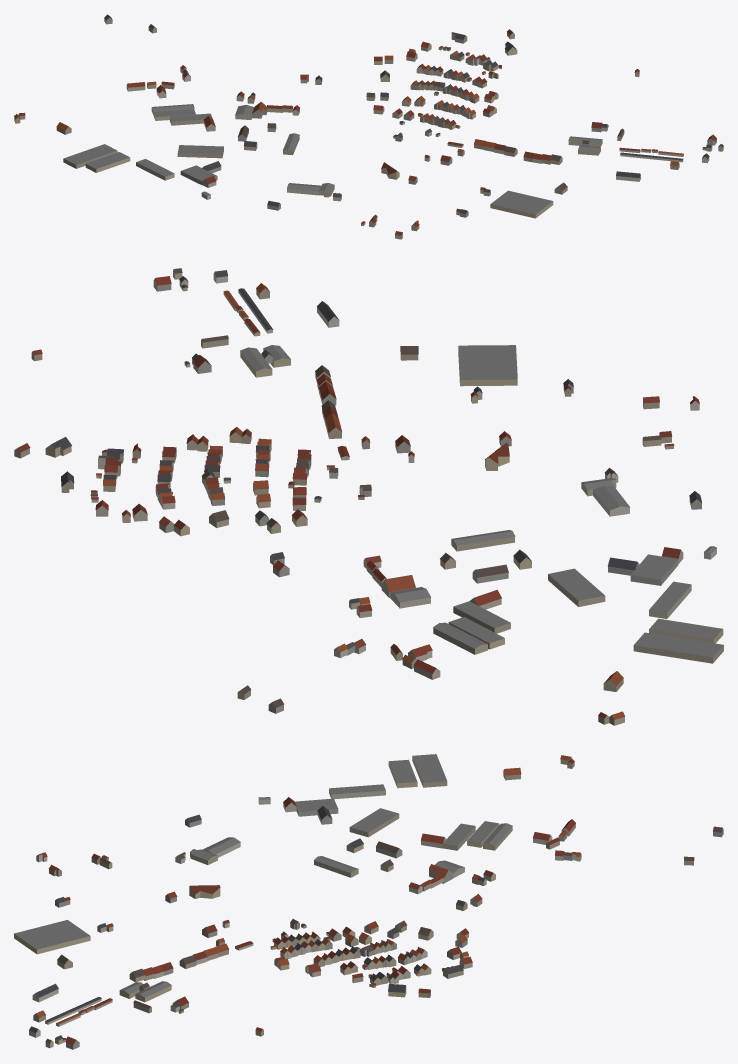
The picture shows the model from 3 angles, top to bottom: view 1: azimuth 30°, elevation 25°; view 2: azimuth 150°, elevation 25°; view 3: azimuth 270°, elevation 25°; orthographic projection. The views are drawn at different scales.
Visible parts, largest first — view 1: buildings; view 2: buildings; view 3: buildings.
Part boxes in pixels (left/top/right/bottom): buildings: left=14, top=14, right=723, bottom=239; buildings: left=14, top=268, right=723, bottom=725; buildings: left=14, top=754, right=723, bottom=1049.
Size of the model in its own units: 800 by 45.91 by 802.
